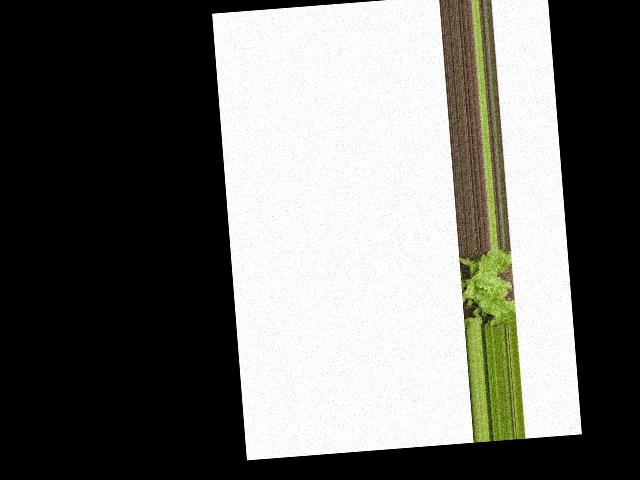lettuce: (455, 248, 514, 329)
